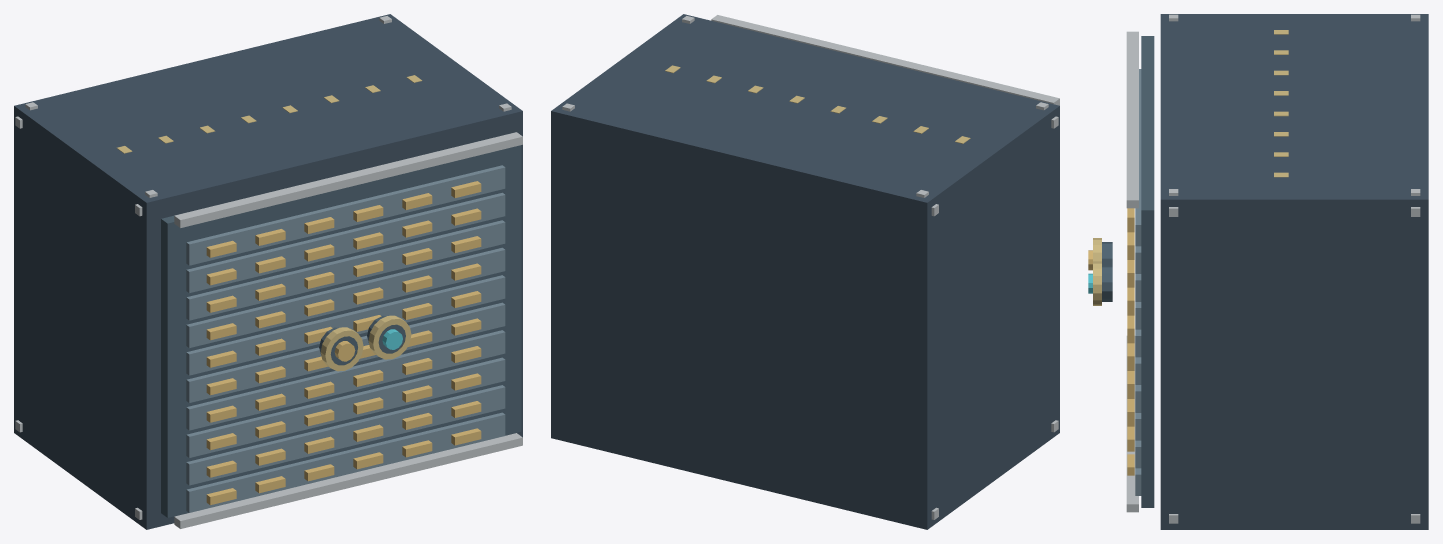
Rendered from 09_L81_DigitalFaultInjectionController.glb.
3 renders of one model, left to right at view 1: azimuth 30°, elevation 25°; view 2: azimuth 150°, elevation 25°; view 3: azimuth 270°, elevation 25°, orthographic.
Visible parts, largest first — view 1: DigitalFaultInjectionController_Node_0000, DigitalFaultInjectionController_Node_0009, DigitalFaultInjectionController_Node_0024, DigitalFaultInjectionController_Node_0066, DigitalFaultInjectionController_Node_0052, DigitalFaultInjectionController_Node_0010, DigitalFaultInjectionController_Node_0017, DigitalFaultInjectionController_Node_0059, DigitalFaultInjectionController_Node_0073, DigitalFaultInjectionController_Node_0031, DigitalFaultInjectionController_Node_0045, DigitalFaultInjectionController_Node_0081 (+4 smaller); view 2: DigitalFaultInjectionController_Node_0000, DigitalFaultInjectionController_Node_0081; view 3: DigitalFaultInjectionController_Node_0000, DigitalFaultInjectionController_Node_0009, DigitalFaultInjectionController_Node_0081, DigitalFaultInjectionController_Node_0080, DigitalFaultInjectionController_Node_0073, DigitalFaultInjectionController_Node_0093, DigitalFaultInjectionController_Node_0094.
Boxes of the visible parts, x1,y1,x2,y2 form: DigitalFaultInjectionController_Node_0000: [14, 14, 522, 529]; DigitalFaultInjectionController_Node_0009: [161, 145, 521, 517]; DigitalFaultInjectionController_Node_0024: [186, 357, 505, 457]; DigitalFaultInjectionController_Node_0066: [186, 192, 505, 292]; DigitalFaultInjectionController_Node_0052: [186, 247, 505, 347]; DigitalFaultInjectionController_Node_0010: [186, 412, 505, 512]; DigitalFaultInjectionController_Node_0017: [186, 385, 505, 485]; DigitalFaultInjectionController_Node_0059: [186, 220, 505, 320]; DigitalFaultInjectionController_Node_0073: [186, 165, 505, 265]; DigitalFaultInjectionController_Node_0031: [186, 330, 505, 430]; DigitalFaultInjectionController_Node_0045: [186, 275, 505, 375]; DigitalFaultInjectionController_Node_0081: [174, 132, 522, 227]; DigitalFaultInjectionController_Node_0000: [551, 14, 1059, 529]; DigitalFaultInjectionController_Node_0081: [711, 15, 1059, 105]; DigitalFaultInjectionController_Node_0000: [1160, 14, 1428, 529]; DigitalFaultInjectionController_Node_0009: [1141, 36, 1154, 507]; DigitalFaultInjectionController_Node_0081: [1126, 31, 1138, 208]; DigitalFaultInjectionController_Node_0080: [1126, 336, 1138, 512]; DigitalFaultInjectionController_Node_0073: [1135, 69, 1141, 246]; DigitalFaultInjectionController_Node_0093: [1102, 265, 1112, 301]; DigitalFaultInjectionController_Node_0094: [1093, 261, 1101, 305].
Bounding box in the file's own units: 1.2 × 0.998 × 0.9145.
